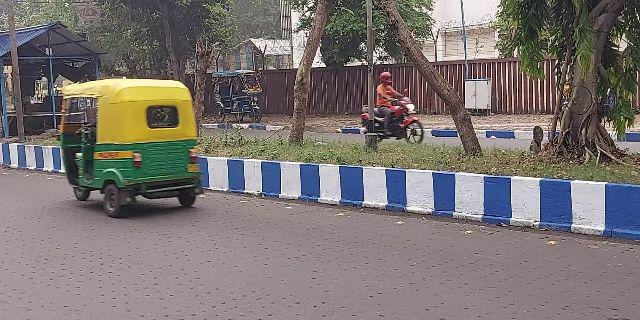Autorickshaw: (54, 80, 209, 218)
Motorbike: (360, 71, 424, 145)
Rickshaw: (209, 66, 270, 125)
